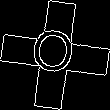O_S: (30, 27, 80, 83)
